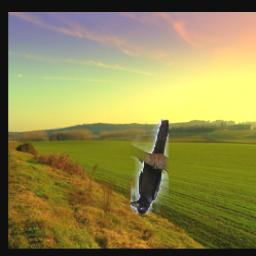Crow: (132, 120, 170, 215)
